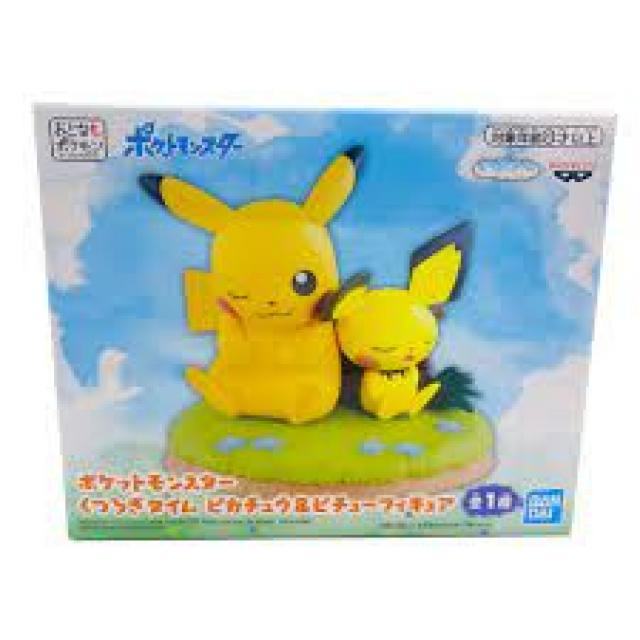pichu: (341, 226, 472, 418)
